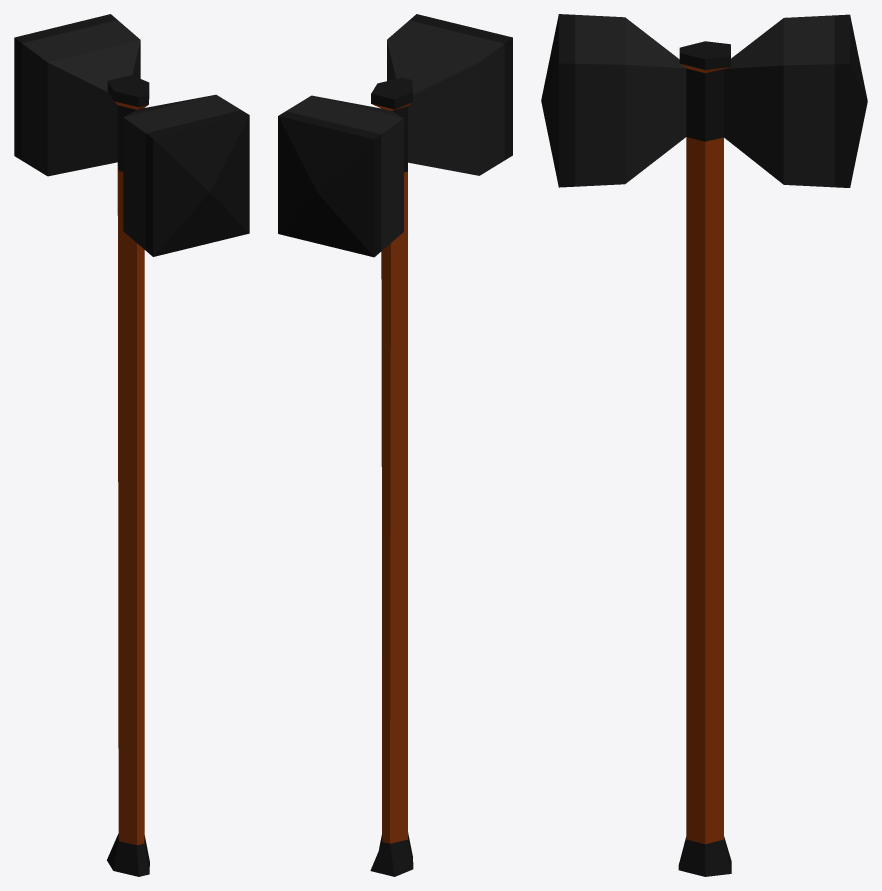
Rendered from warhammer.obj.
The picture shows the model from 3 angles, left to right: view 1: azimuth 30°, elevation 25°; view 2: azimuth 150°, elevation 25°; view 3: azimuth 270°, elevation 25°; orthographic projection. The views are drawn at different scales.
Visible parts, largest first — view 1: warhammer; view 2: warhammer; view 3: warhammer.
Part boxes in pixels (left/top/right/bottom): warhammer: left=14, top=14, right=249, bottom=876; warhammer: left=278, top=14, right=512, bottom=876; warhammer: left=541, top=14, right=867, bottom=876.
Bounding box in the file's own units: 0.0752 × 0.5882 × 0.2101.
